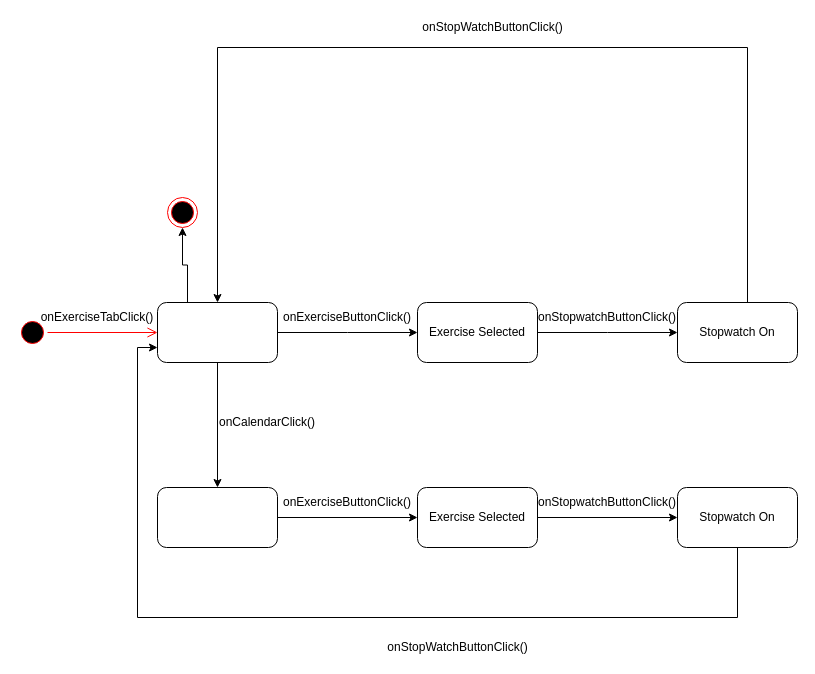
This 815x674 diagram has some shape labels left out. Here are the shapes that lost their labels. From the top down, the centre of each, then its label:
[217,332]: Stopwatch Paused
[217,517]: Date Selected
